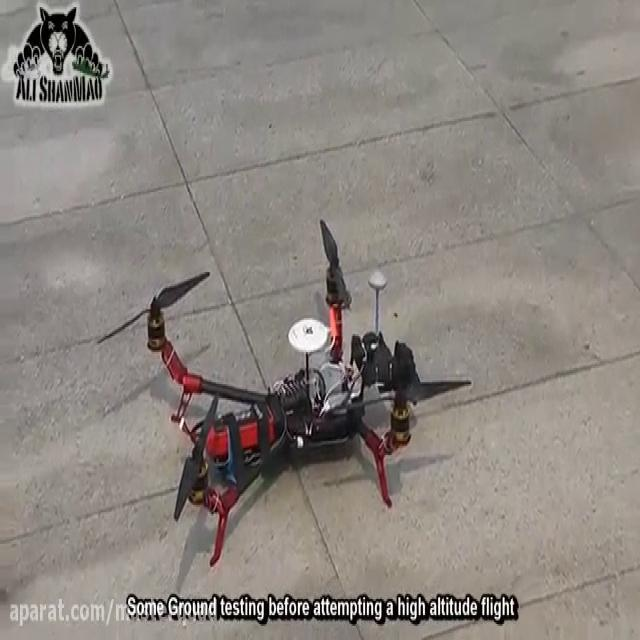drone: (94, 213, 475, 571)
